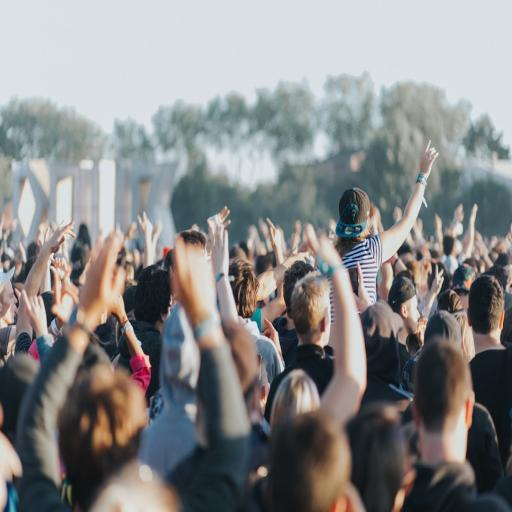face: (0, 261, 22, 329), (406, 293, 424, 337)
